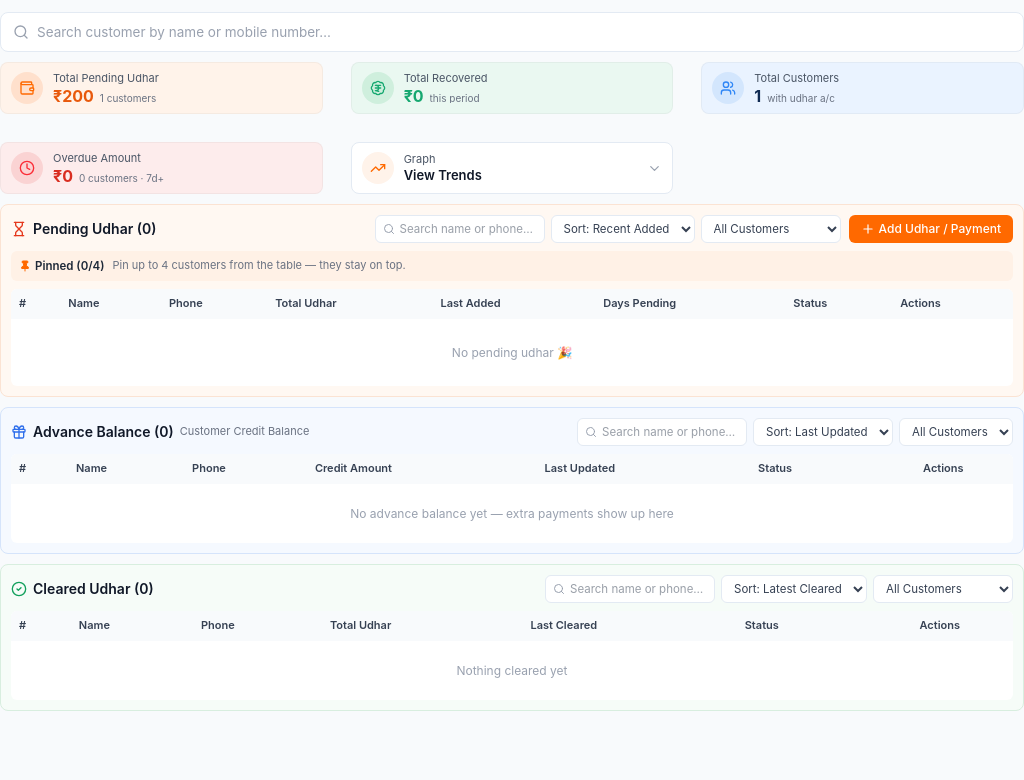
Udhar universal customer search › sits at the top of the Udhar section; the dropdown opens at 2 letters or 3 digits, not before
The width and height of the screenshot is (1024, 780).
In the dropdown labelled "Search customer": coordinates (524, 32) left=37, top=13, right=1011, bottom=51, type "a"
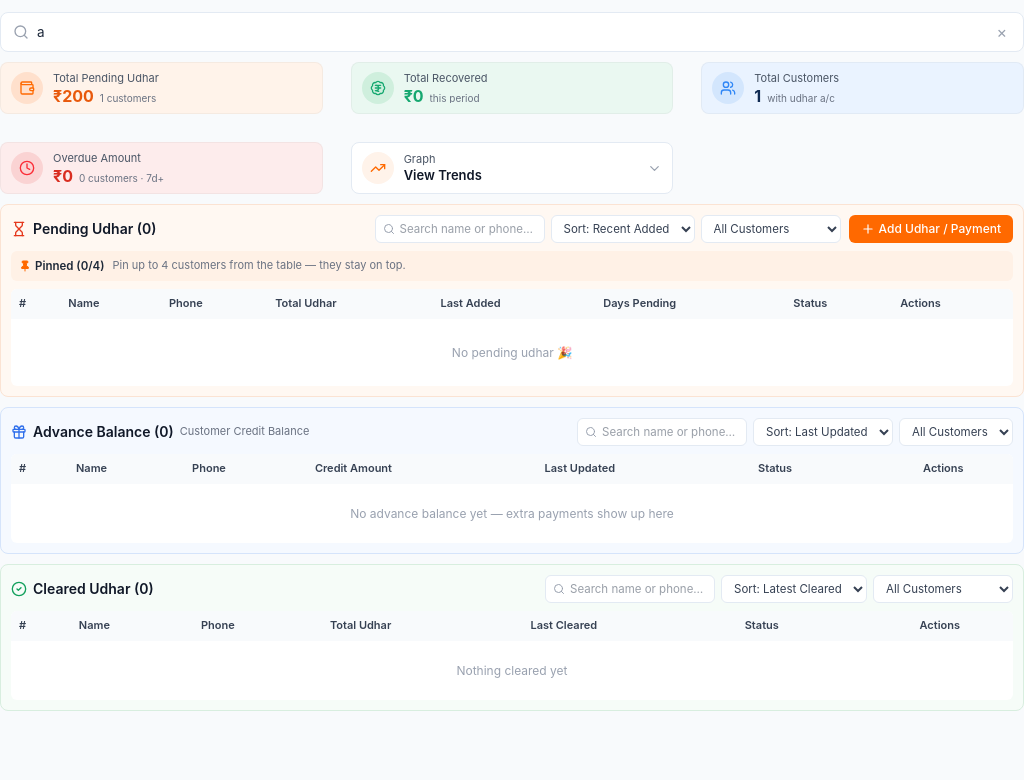
Replace the text in the dropdown named "Search customer" with "as": coordinates (511, 32) left=37, top=13, right=984, bottom=51
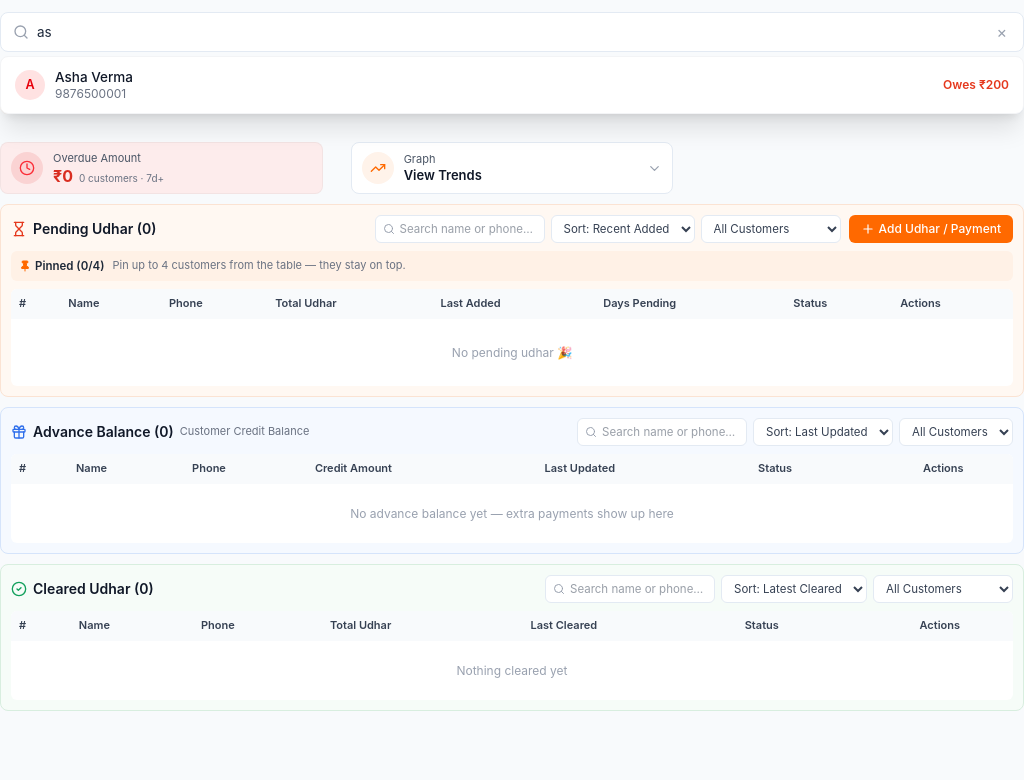
Result: the list is shown at left=0, top=56, right=1023, bottom=114
Replace the text in the dropdown named "Search customer" with "98": coordinates (511, 32) left=37, top=13, right=984, bottom=51
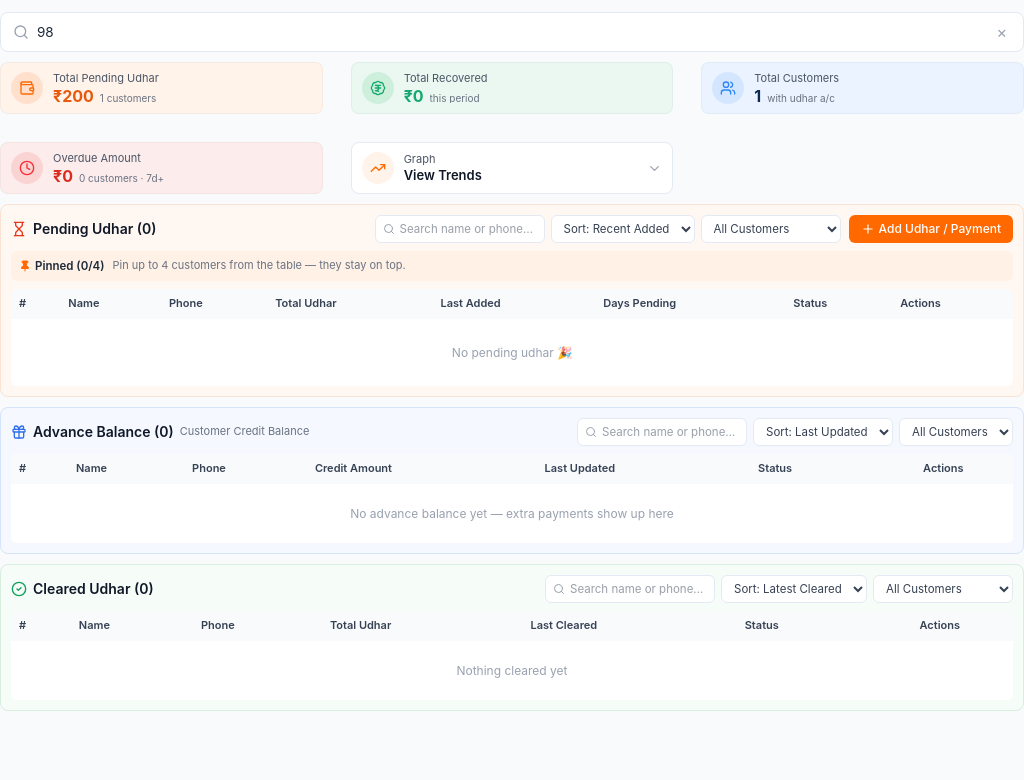
Result: the list is gone
Replace the text in the dropdown named "Search customer" with "987": coordinates (511, 32) left=37, top=13, right=984, bottom=51
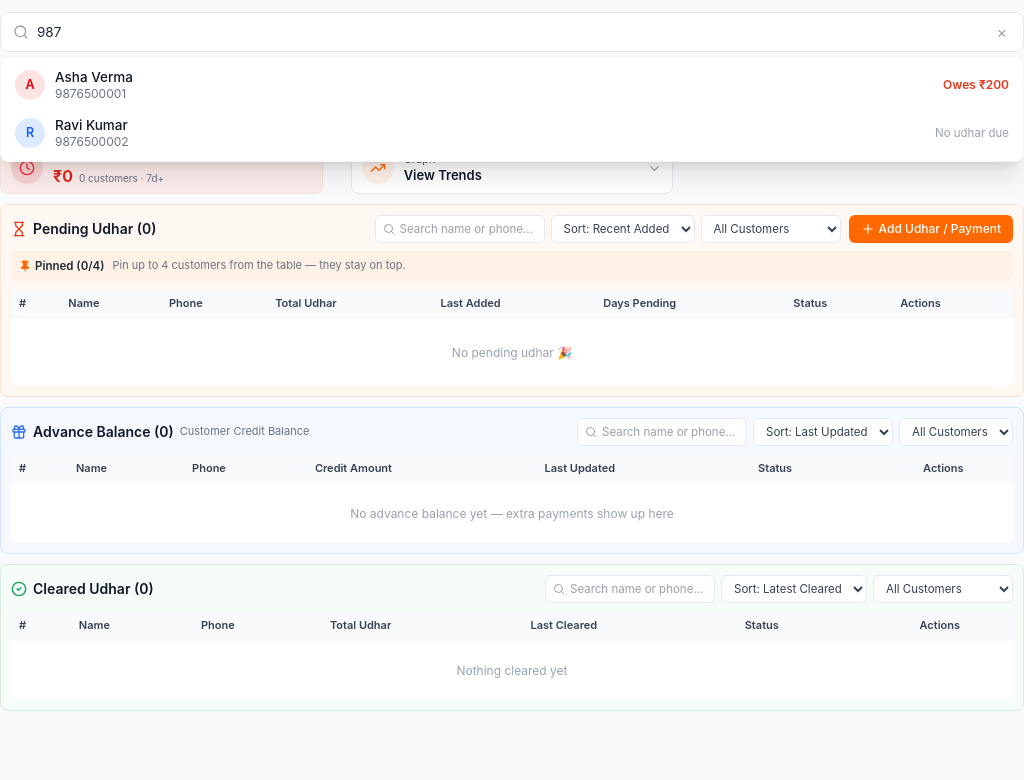
Result: the list is shown at left=0, top=56, right=1023, bottom=162
